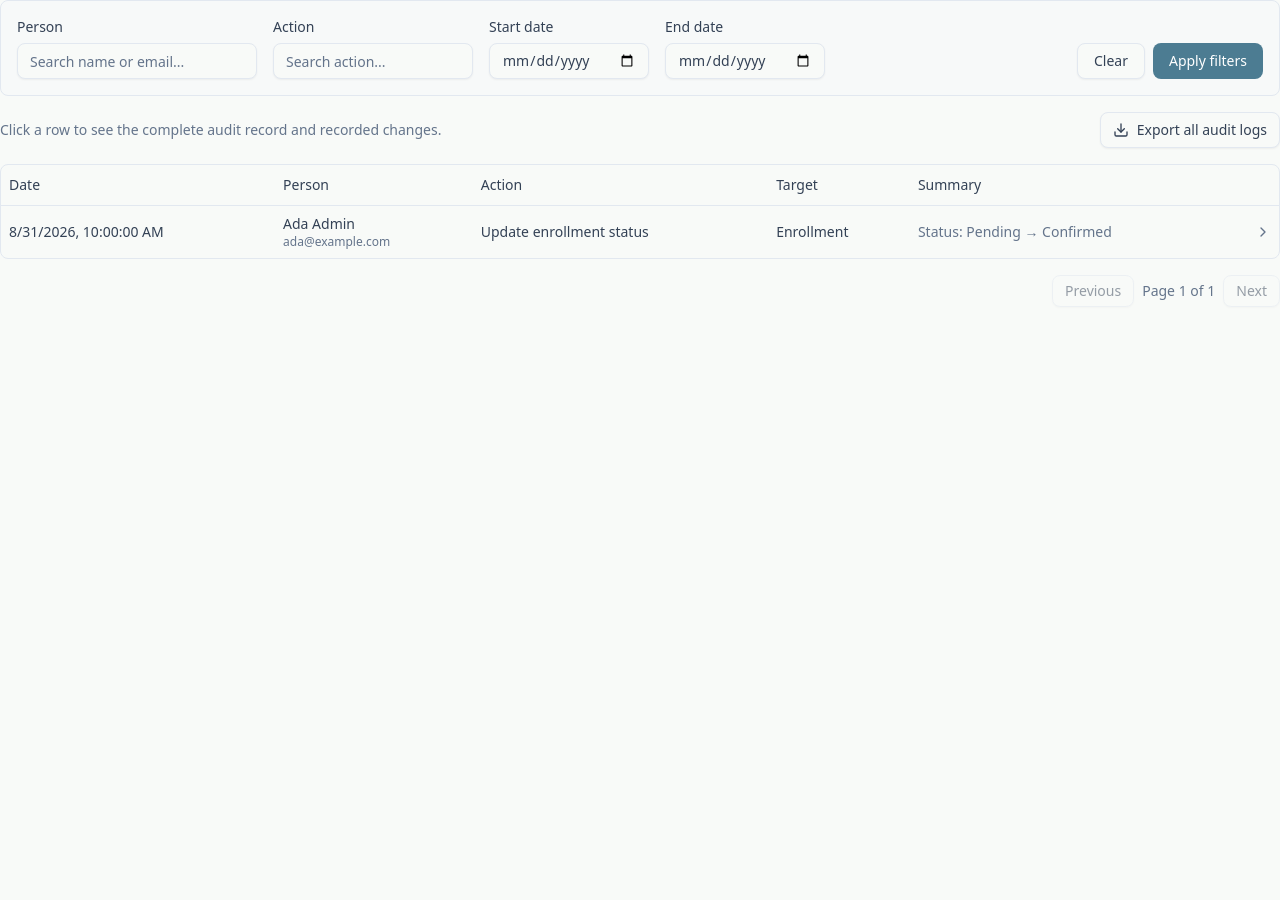
Scenario: AuditLogTable › opens complete row details including IDs, raw details, and what changed
Click the row named "View audit details for Update enrollment status by Ada Admin" at point(640, 231), box [1, 205, 1279, 258]
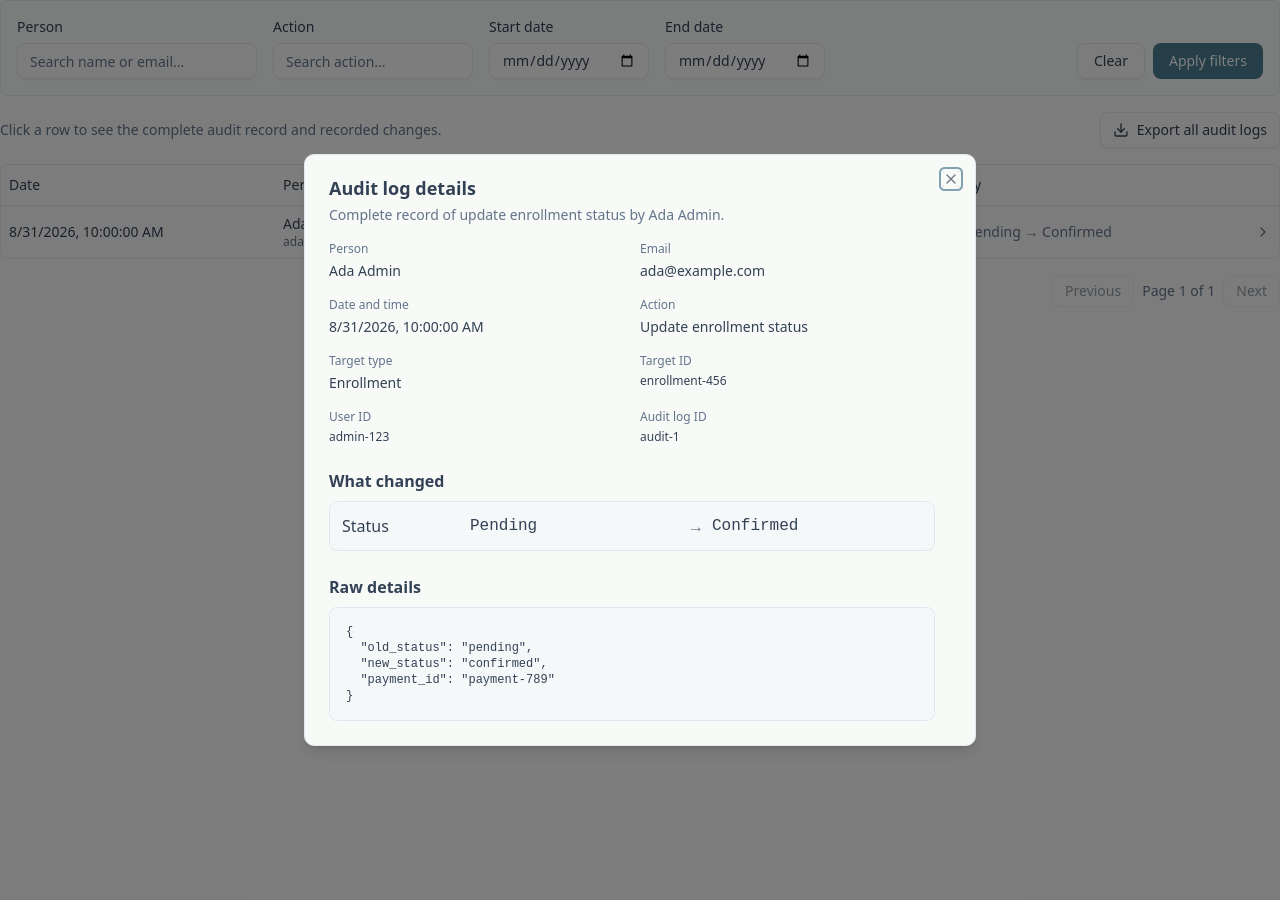
Expected: the text "admin-123" is shown, [329, 428, 389, 445]
Expected: the text "enrollment-456" is shown, [640, 372, 726, 389]
Expected: the text "audit-1" is shown, [640, 428, 680, 445]
